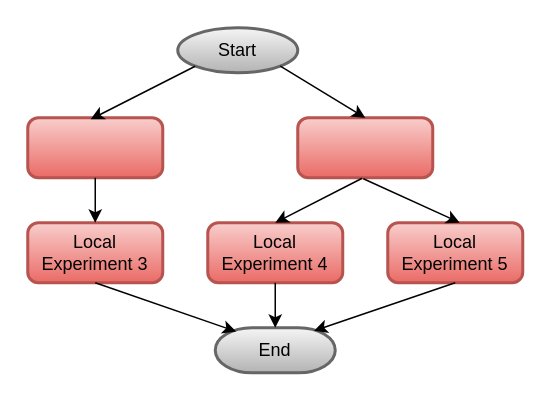
This 549x399 diagram has some shape labels left out. Each missing label, with the centre of its shape:
Local Experiment 1: the point at 95,147
Local Experiment 2: the point at 365,147
